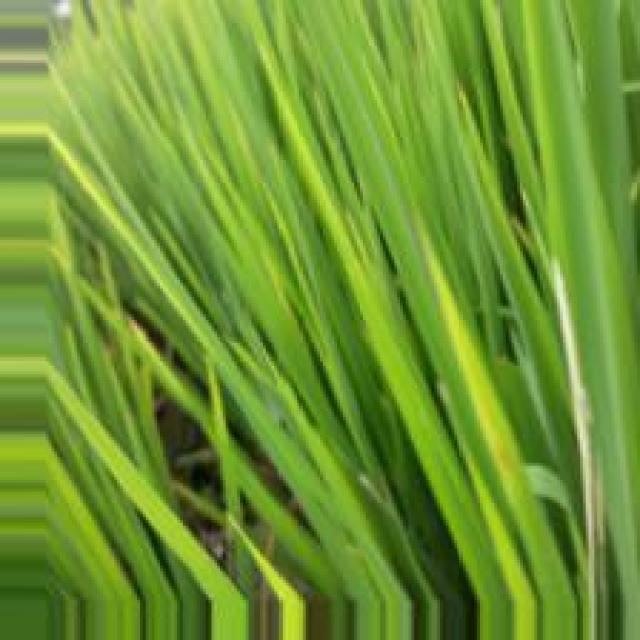HealthyLeaf: (537, 46, 596, 292), (396, 245, 470, 416), (421, 448, 501, 584), (253, 291, 309, 370)
